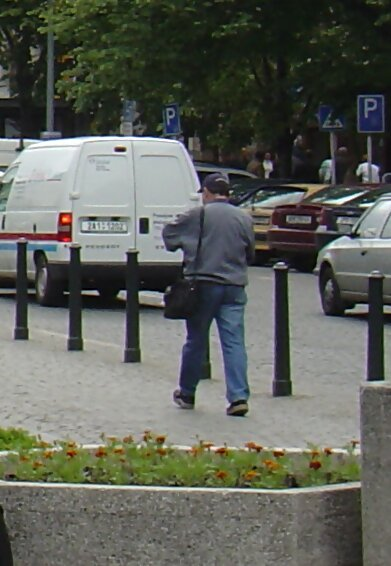person: (160, 167, 257, 419)
